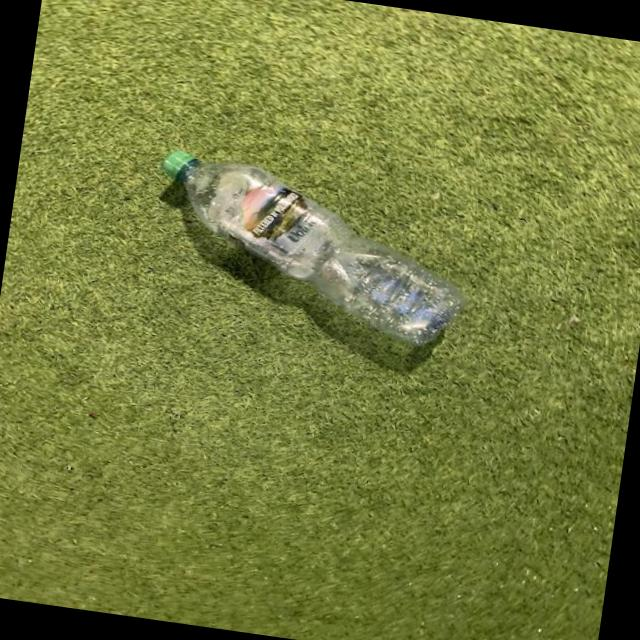plastic_bottle: (143, 148, 480, 350)
